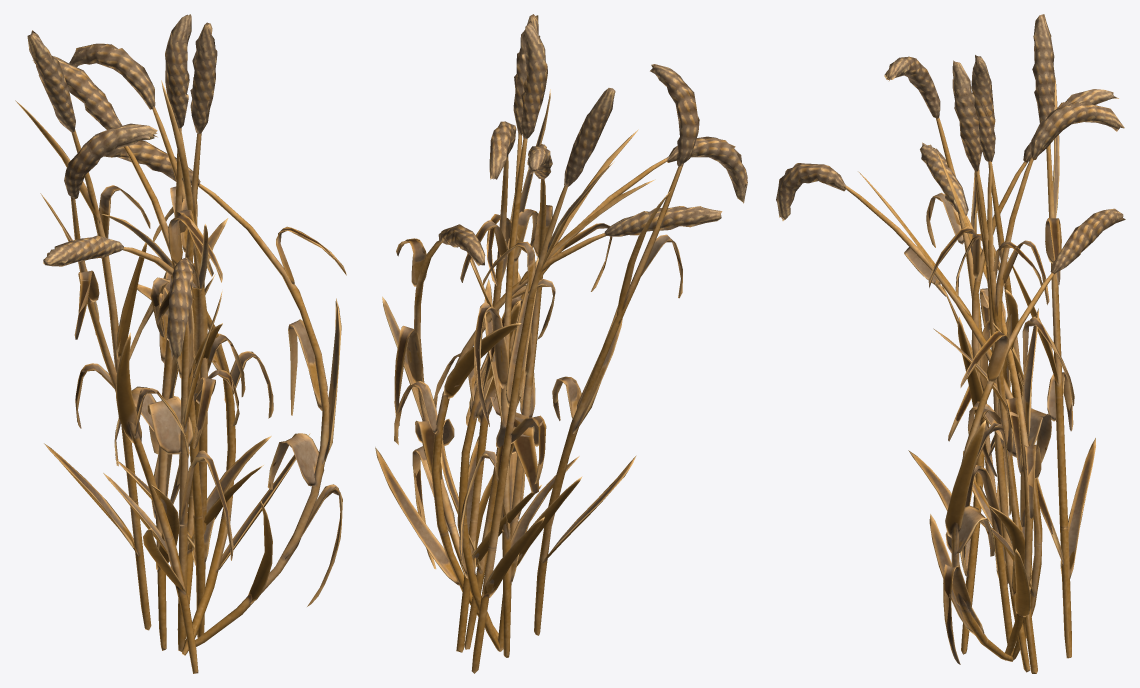
File: SM_Large_Clump_03.fbx
3 renders of one model, left to right at view 1: azimuth 30°, elevation 25°; view 2: azimuth 150°, elevation 25°; view 3: azimuth 270°, elevation 25°, orthographic. The views are drawn at different scales.
Visible parts, largest first — view 1: SM_Large_Clump_03_LOD0; view 2: SM_Large_Clump_03_LOD0; view 3: SM_Large_Clump_03_LOD0.
Boxes of the visible parts, x1,y1,x2,y2 form: SM_Large_Clump_03_LOD0: (15,14,346,673); SM_Large_Clump_03_LOD0: (375,14,747,673); SM_Large_Clump_03_LOD0: (776,14,1125,673).
Bounding box in the file's own units: 109 × 111 × 210.
1 material, 1 textured.
